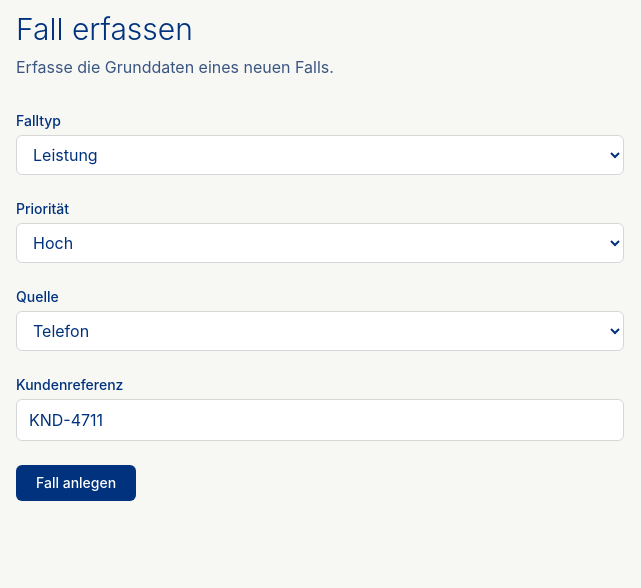
Test case: CaseCaptureComponent › creates the case, shows the case number and clears the form on success
The width and height of the screenshot is (641, 588).
Click the button "Fall anlegen" at (76, 483), box [16,465,136,501]
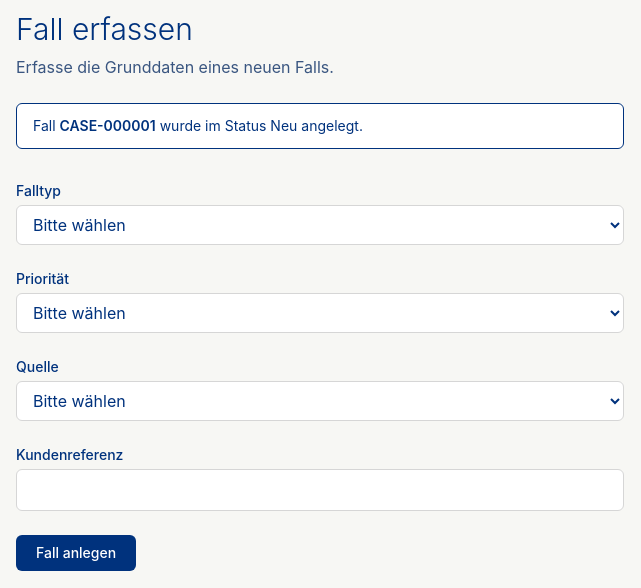
Check: the text "CASE-000001" is shown, box [60,117,156,134]
